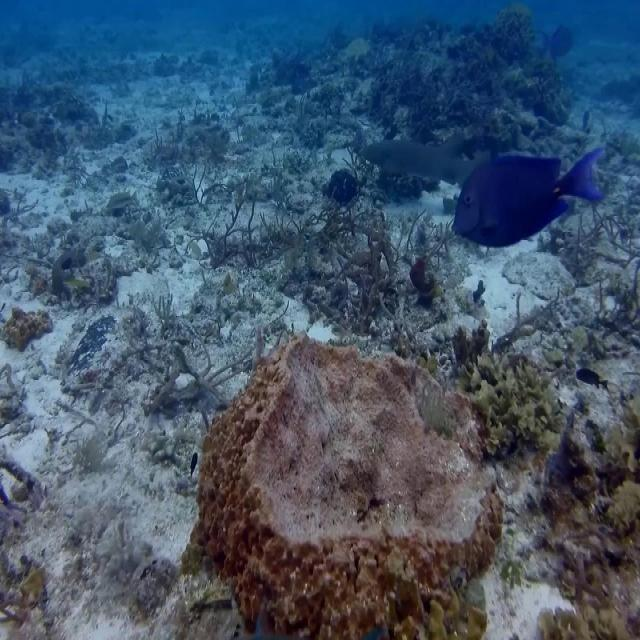fish: (451, 146, 605, 247), (363, 133, 484, 189), (576, 368, 609, 390)
reefs: (187, 333, 504, 639)
